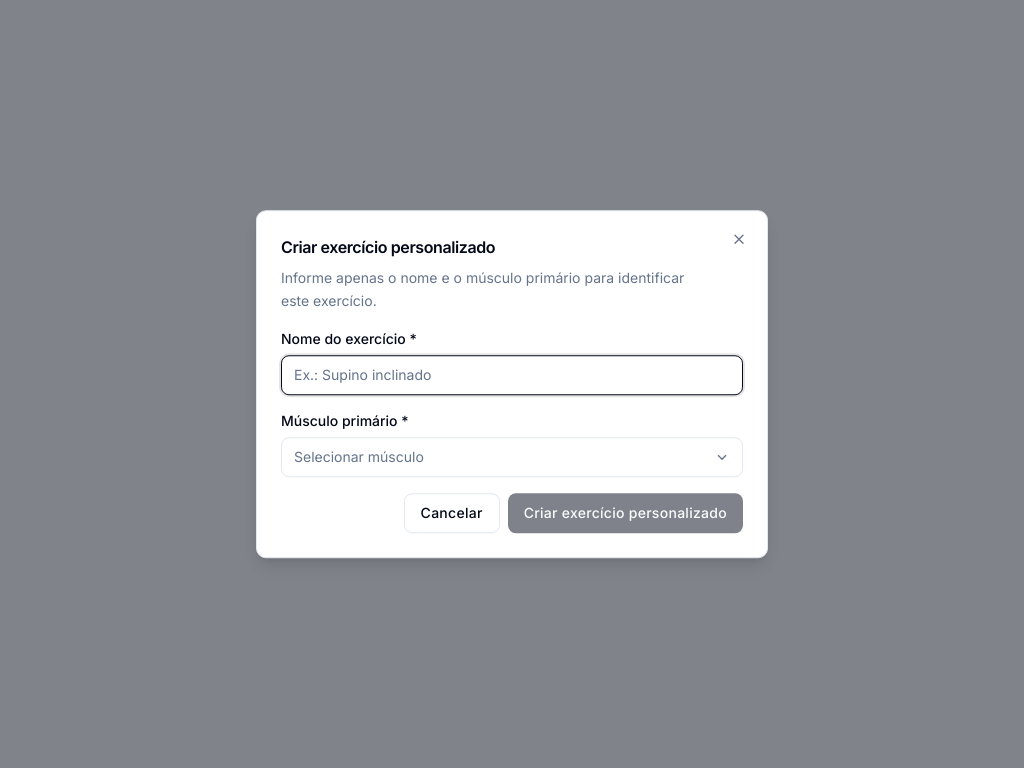
Test: CustomExerciseDialog › shows the empty name error after a mouse click moves to another field
The image size is (1024, 768).
Click the dropdown named "Músculo primário": (359, 456) [281,437,743,477]
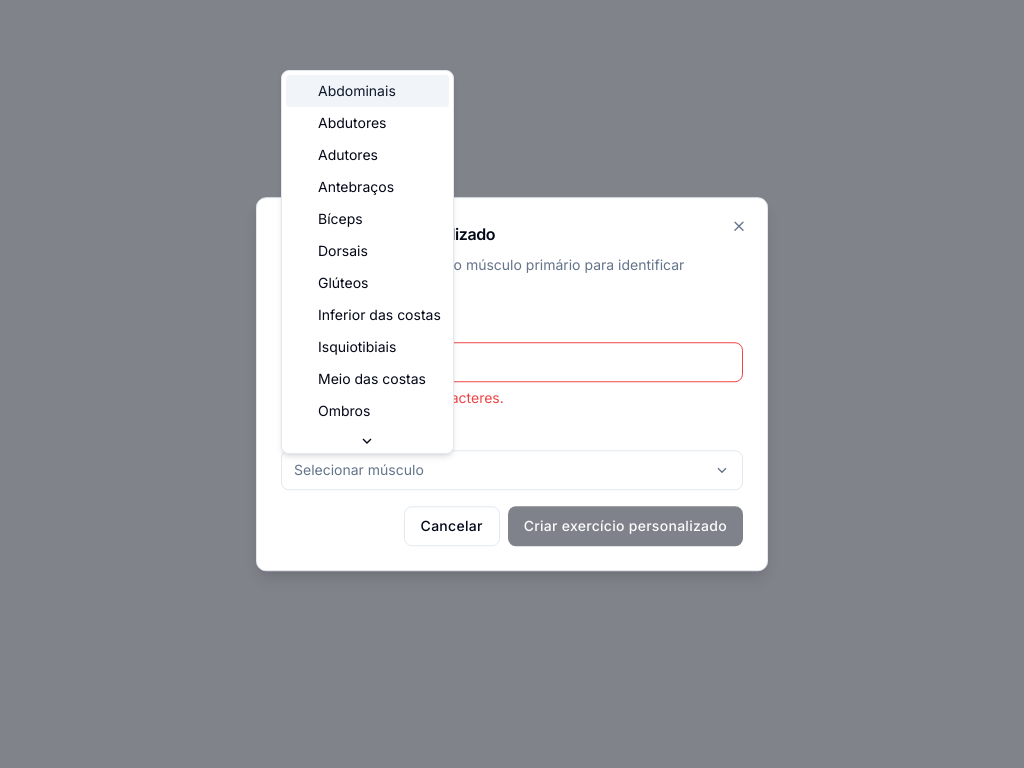
Now the text "Informe pelo menos 2 caracteres." is shown, box [281,389,504,406]
